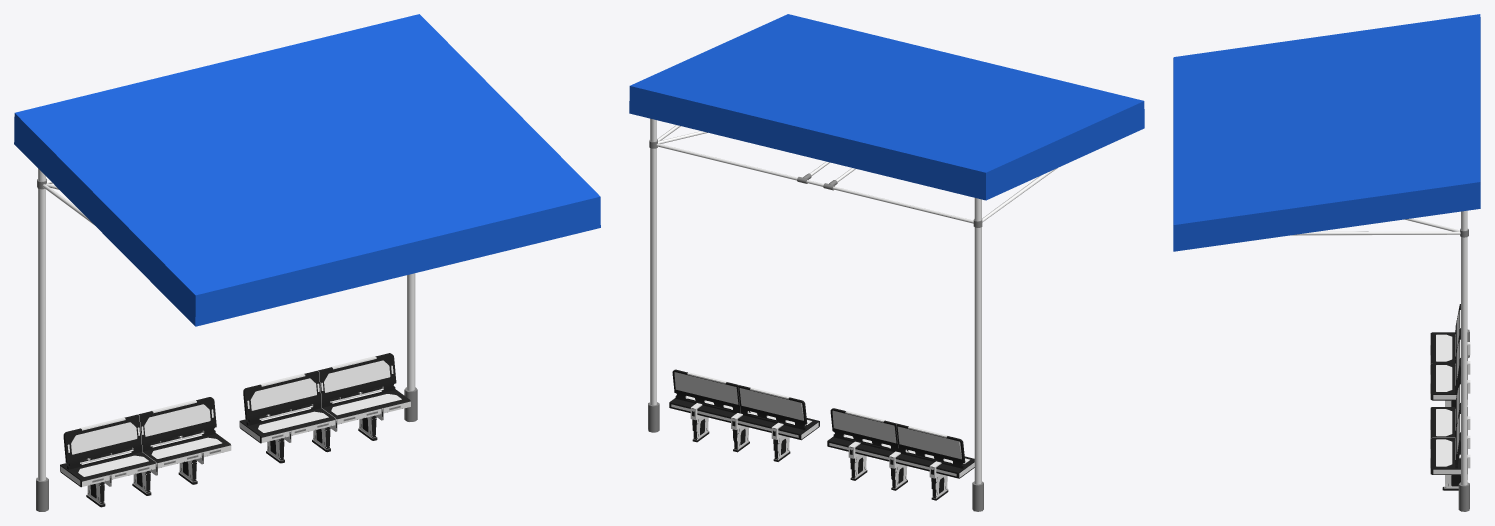
File: 音乐现场_蓝棚+座椅_001.fbx
3 renders of one model, left to right at view 1: azimuth 30°, elevation 25°; view 2: azimuth 150°, elevation 25°; view 3: azimuth 270°, elevation 25°, orthographic. The views are drawn at different scales.
Visible parts, largest first — view 1: 音乐现场_蓝色棚子_001, 音乐现场_双人椅_002, 音乐现场_双人椅_001; view 2: 音乐现场_蓝色棚子_001, 音乐现场_双人椅_001, 音乐现场_双人椅_002; view 3: 音乐现场_蓝色棚子_001, 音乐现场_双人椅_001, 音乐现场_双人椅_002.
Boxes of the visible parts, x1,y1,x2,y2 form: 音乐现场_蓝色棚子_001: [14, 14, 600, 511]; 音乐现场_双人椅_002: [60, 397, 231, 507]; 音乐现场_双人椅_001: [239, 353, 410, 463]; 音乐现场_蓝色棚子_001: [629, 14, 1144, 511]; 音乐现场_双人椅_001: [669, 369, 819, 461]; 音乐现场_双人椅_002: [827, 408, 974, 500]; 音乐现场_蓝色棚子_001: [1173, 14, 1480, 511]; 音乐现场_双人椅_001: [1430, 378, 1470, 490]; 音乐现场_双人椅_002: [1430, 304, 1470, 406].
Bounding box in the file's own units: 36.83 × 34.17 × 28.41.
